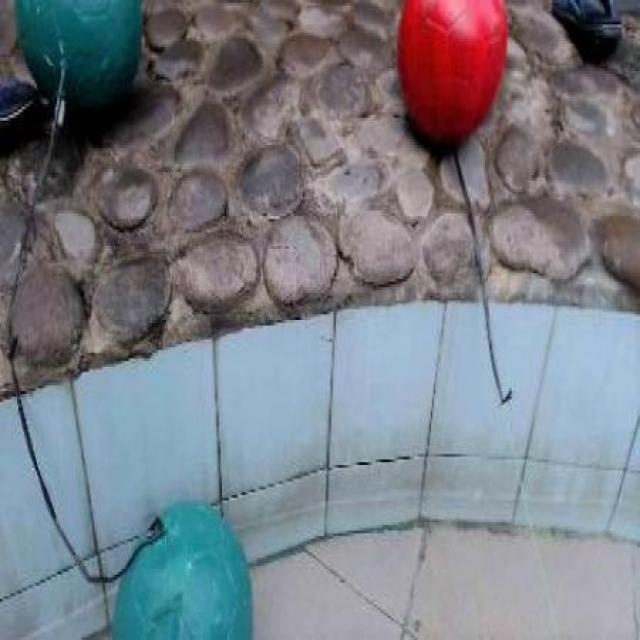buoy: (110, 499, 253, 639), (397, 2, 505, 146), (12, 0, 142, 115)
